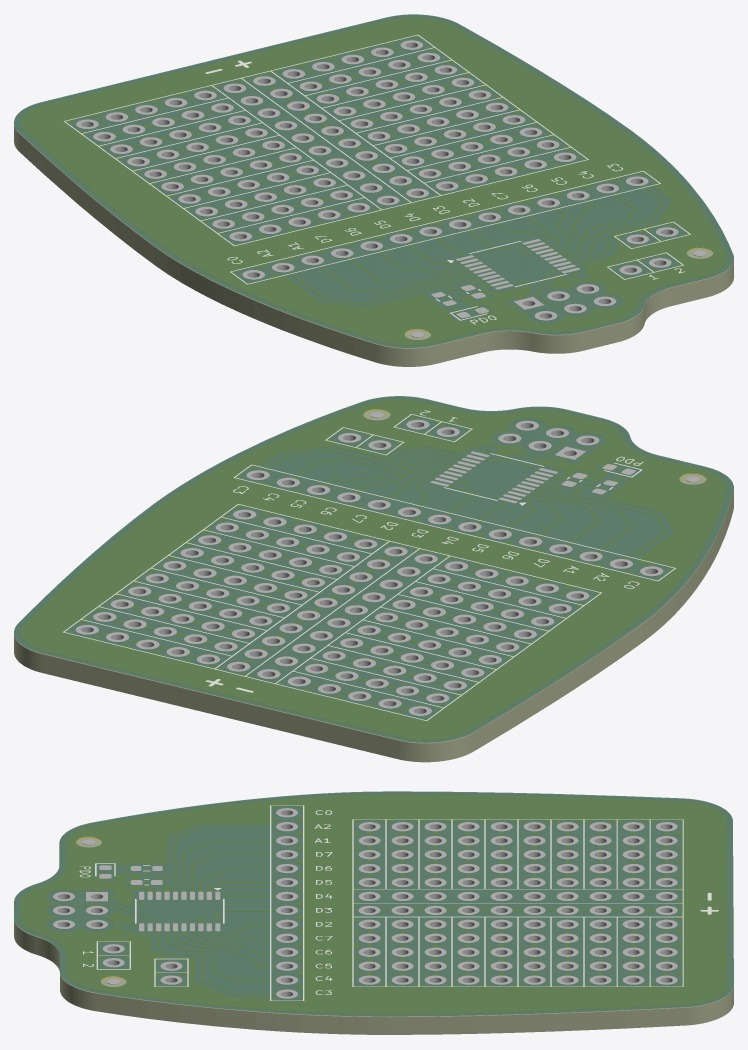
The model's file is supercon-8-add-on-badge.glb.
3 renders of one model, top to bottom at view 1: azimuth 30°, elevation 25°; view 2: azimuth 150°, elevation 25°; view 3: azimuth 270°, elevation 25°, orthographic. The views are drawn at different scales.
Visible parts, largest first — view 1: =>[0:1:1:7], =>[0:1:1:2], =>[0:1:1:9], =>[0:1:1:5]; view 2: =>[0:1:1:7], =>[0:1:1:2], =>[0:1:1:9], =>[0:1:1:5]; view 3: =>[0:1:1:7], =>[0:1:1:2], =>[0:1:1:9], =>[0:1:1:5].
Boxes of the visible parts, <box> form: =>[0:1:1:7]: <box>14,14,733,347</box>; =>[0:1:1:2]: <box>21,18,726,344</box>; =>[0:1:1:9]: <box>14,15,733,366</box>; =>[0:1:1:5]: <box>63,34,690,324</box>; =>[0:1:1:7]: <box>14,396,733,742</box>; =>[0:1:1:2]: <box>21,400,726,739</box>; =>[0:1:1:9]: <box>14,397,733,762</box>; =>[0:1:1:5]: <box>63,410,675,720</box>; =>[0:1:1:7]: <box>14,791,733,1016</box>; =>[0:1:1:2]: <box>21,795,726,1013</box>; =>[0:1:1:9]: <box>14,792,733,1034</box>; =>[0:1:1:5]: <box>79,805,718,1000</box>.
Size of the model in its own units: 0.041 by 0.00166 by 0.0554.
Materials: 5 (5 with a texture image).
